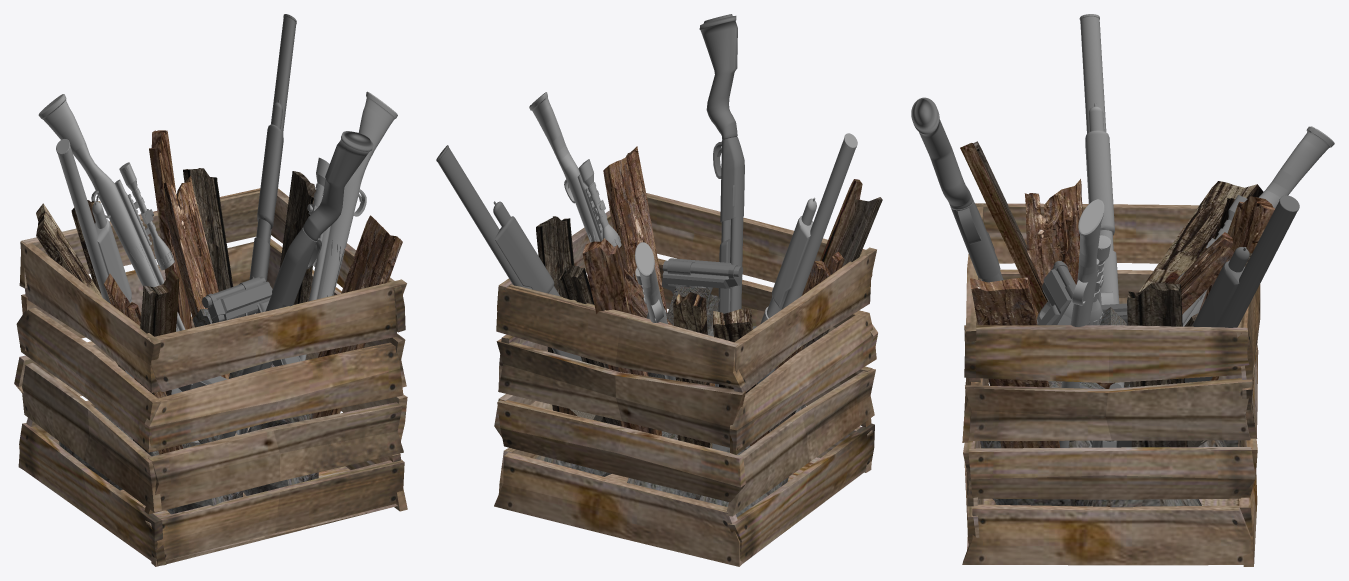
The model's file is ScrapFBX.fbx.
3 renders of one model, left to right at view 1: azimuth 30°, elevation 25°; view 2: azimuth 150°, elevation 25°; view 3: azimuth 270°, elevation 25°, orthographic. The views are drawn at different scales.
Parts seen in each view (by area): view 1: pCube93, pCube32, importriffle_pCylinder21, pCube92, wood07, importriffle_pCylinder20, wood06, WoodPlank_Broken23, pCube91, wood03, WoodPlank50, WoodPlank38 (+10 smaller); view 2: pCube92, pCube32, pCube93, wood07, wood06, wood03, WoodPlank50, importriffle_pCylinder20, WoodPlank38, WoodPlank39, handgun2, WoodPlank51 (+8 smaller); view 3: pCube91, pCube32, wood03, wood06, wood07, WoodPlank_Broken17, WoodPlank50, WoodPlank41, importriffle_pCylinder20, WoodPlank39, pCube92, WoodPlank51 (+7 smaller).
Boxes of the visible parts, bbox=[...] form: pCube93: bbox=[144, 279, 406, 566]; pCube32: bbox=[16, 241, 166, 565]; importriffle_pCylinder21: bbox=[38, 94, 185, 331]; pCube92: bbox=[14, 188, 260, 470]; wood07: bbox=[223, 131, 373, 438]; importriffle_pCylinder20: bbox=[299, 91, 397, 360]; wood06: bbox=[236, 14, 296, 434]; WoodPlank_Broken23: bbox=[163, 175, 229, 379]; pCube91: bbox=[266, 188, 407, 511]; wood03: bbox=[56, 139, 199, 442]; WoodPlank50: bbox=[312, 215, 402, 418]; WoodPlank38: bbox=[149, 130, 192, 329]; pCube92: bbox=[494, 284, 745, 566]; pCube32: bbox=[726, 247, 876, 563]; pCube93: bbox=[646, 193, 877, 472]; wood07: bbox=[699, 14, 744, 313]; wood06: bbox=[436, 145, 581, 361]; wood03: bbox=[712, 133, 857, 451]; WoodPlank50: bbox=[603, 146, 667, 312]; importriffle_pCylinder20: bbox=[529, 92, 621, 247]; WoodPlank38: bbox=[582, 238, 662, 435]; WoodPlank39: bbox=[769, 179, 882, 432]; handgun2: bbox=[661, 258, 743, 293]; WoodPlank51: bbox=[536, 216, 577, 416]; pCube91: bbox=[962, 325, 1255, 565]; pCube32: bbox=[975, 203, 1241, 382]; wood03: bbox=[1079, 14, 1124, 387]; wood06: bbox=[1088, 195, 1299, 447]; wood07: bbox=[911, 97, 1003, 282]; WoodPlank_Broken17: bbox=[1024, 179, 1082, 318]; WoodPlank50: bbox=[970, 277, 1060, 448]; WoodPlank41: bbox=[1124, 181, 1263, 387]; importriffle_pCylinder20: bbox=[1059, 199, 1111, 447]; WoodPlank39: bbox=[960, 141, 1047, 313]; pCube92: bbox=[1237, 284, 1260, 566]; WoodPlank51: bbox=[1127, 283, 1187, 447].
Size of the model in its own units: 1.53 by 1.81 by 1.6.
Materials: 7 (5 with a texture image).
